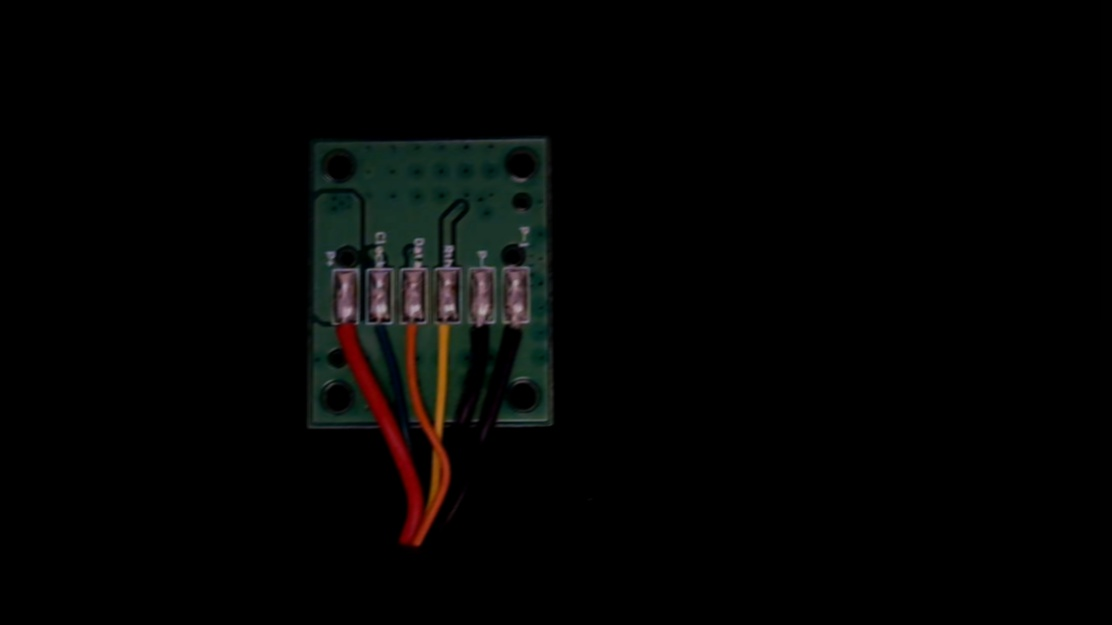Black: (466, 308, 496, 372)
Black1: (502, 307, 531, 366)
Green: (367, 305, 397, 366)
Orange: (401, 306, 430, 369)
Red: (331, 309, 361, 371)
Yellow: (434, 306, 464, 371)
